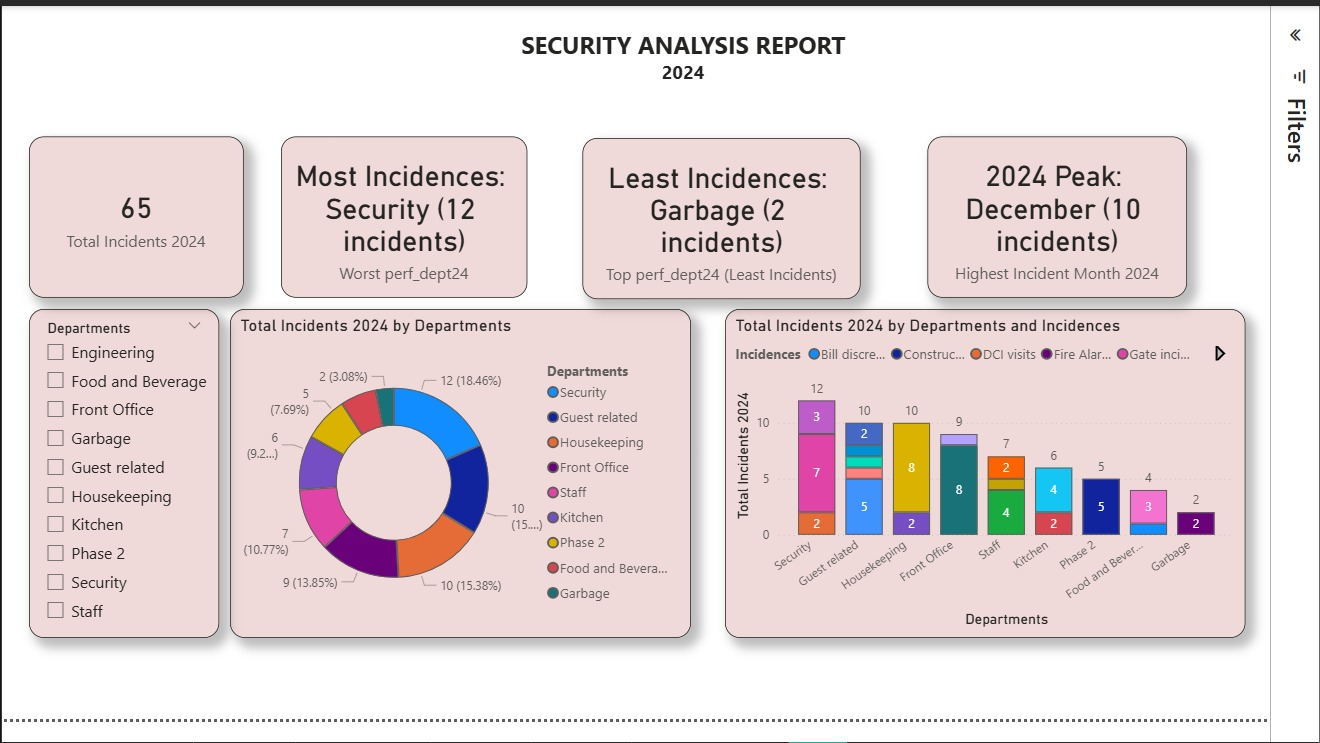

The dashboard page shown, as its layout file describes it:
{"tool":"powerbi","page":{"name":"2024","canvas":[1280,720],"ordinal":2},"visuals":[{"type":"card","fields":{"Values":["Data24/25.Top perf_dept24"]},"box":[281,131.7,248.8,162.4],"z":0},{"type":"card","fields":{"Values":["Data24/25.Top perf_dept24 (Least Incidents)"]},"box":[585.4,133.2,281,162.4],"z":1000},{"type":"card","fields":{"Values":["Data24/25.Total Incidents 2024"]},"box":[27.8,131.7,216.6,162.4],"z":2000},{"type":"donutChart","fields":{"Category":["Data24/25.Departments"],"Y":["Data24/25.Total Incidents 2024"]},"box":[229.8,305.9,465.4,332.2],"z":3000},{"type":"columnChart","fields":{"Y":["Data24/25.Total Incidents 2024"],"Category":["Data24/25.Departments"],"Series":["Data24/25.Incidences"]},"box":[730.2,305.9,525.4,332.2],"z":4000},{"type":"slicer","fields":{"Values":["Data24/25.Departments"]},"box":[27.8,305.9,191.7,332.2],"z":5000},{"type":"card","fields":{"Values":["Data24/25.Highest Incident Month 2024"]},"box":[933.7,131.7,262,162.4],"z":7000},{"type":"textbox","box":[230,16.7,915,66.7],"z":8000}]}

Visuals, with their boxes on the page's 1280x720 design canvas (x1, y1, x2, y2). These are canvas units, not pixel positions in the 1320x743 screenshot, which may show the page scaled, cropped or inside an application window:
card - Data24/25.Top perf_dept24: 281:132:530:294
card - Data24/25.Top perf_dept24 (Least Incidents): 585:133:866:296
card - Data24/25.Total Incidents 2024: 28:132:244:294
donutChart - Data24/25.Departments x Data24/25.Total Incidents 2024: 230:306:695:638
columnChart - Data24/25.Total Incidents 2024 x Data24/25.Departments: 730:306:1256:638
slicer - Data24/25.Departments: 28:306:220:638
card - Data24/25.Highest Incident Month 2024: 934:132:1196:294
textbox: 230:17:1145:83
